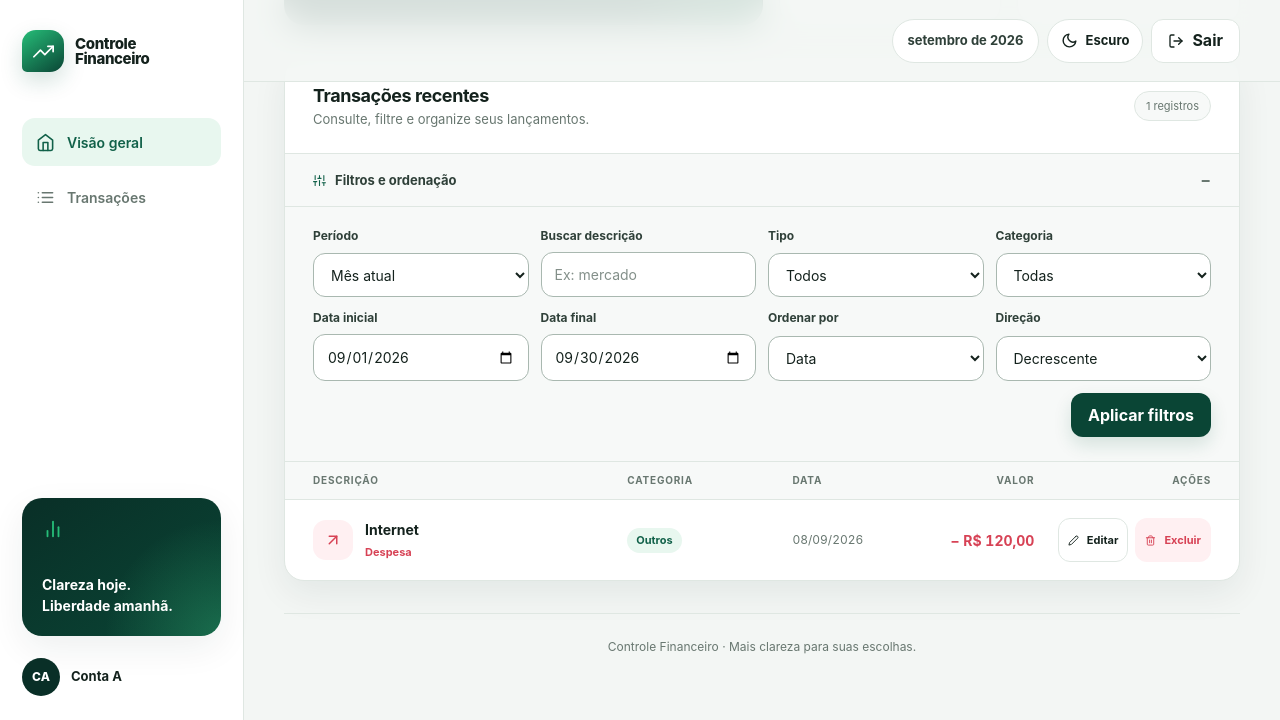
Test: edição foca a descrição e cancelar não altera registro
(page scrolled)
Expected: the button "Sair" is shown, top-left (1151, 18), bottom-right (1240, 62)
Click the button with aria-label "Editar Internet".
click(1093, 540)  # box top-left (1058, 518), bottom-right (1128, 562)
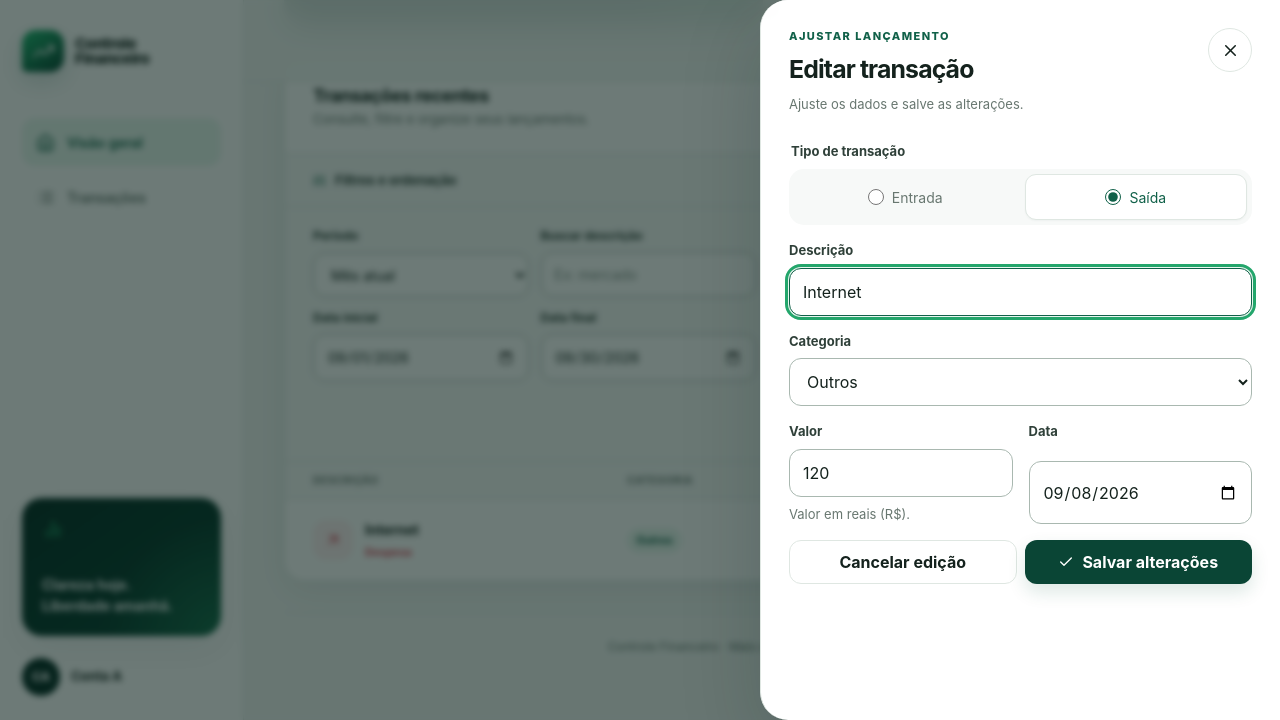
Replace the text in the field labelled "Descrição" with "Outra descrição" at x=1020, y=292, box top-left (789, 268), bottom-right (1252, 316)
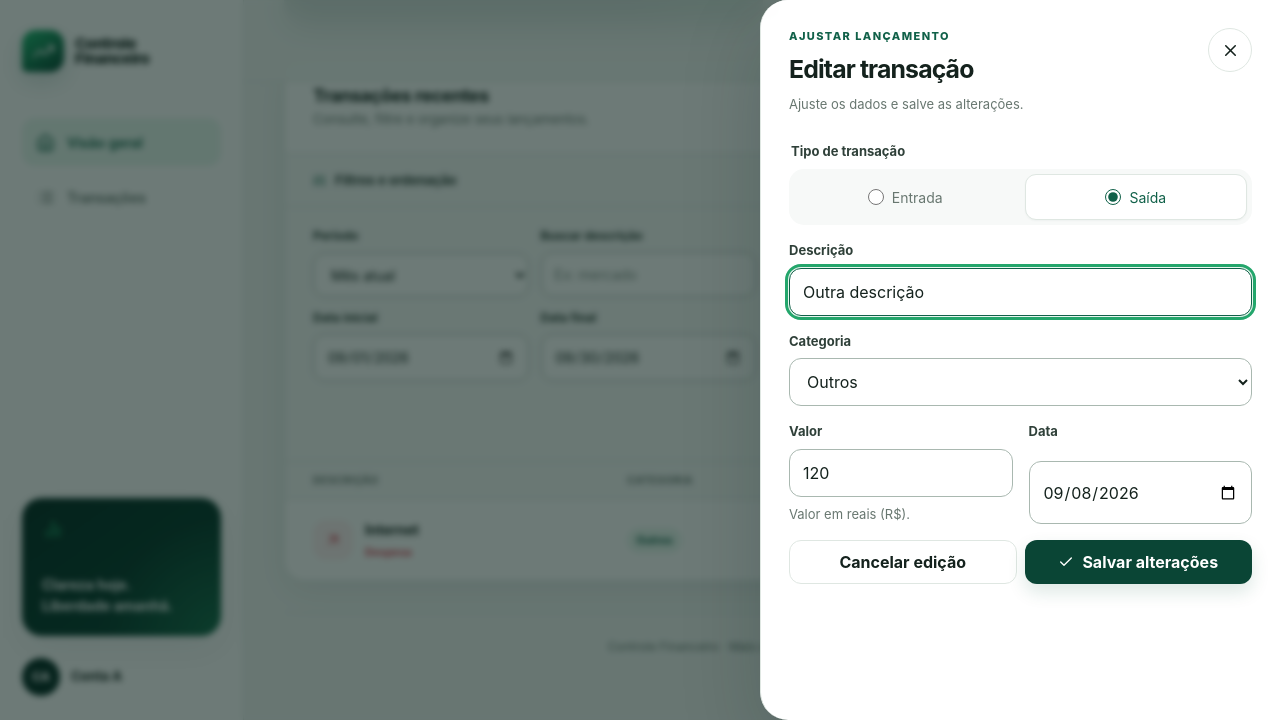
Click the button "Cancelar edição".
click(903, 562)  # box top-left (789, 540), bottom-right (1016, 584)
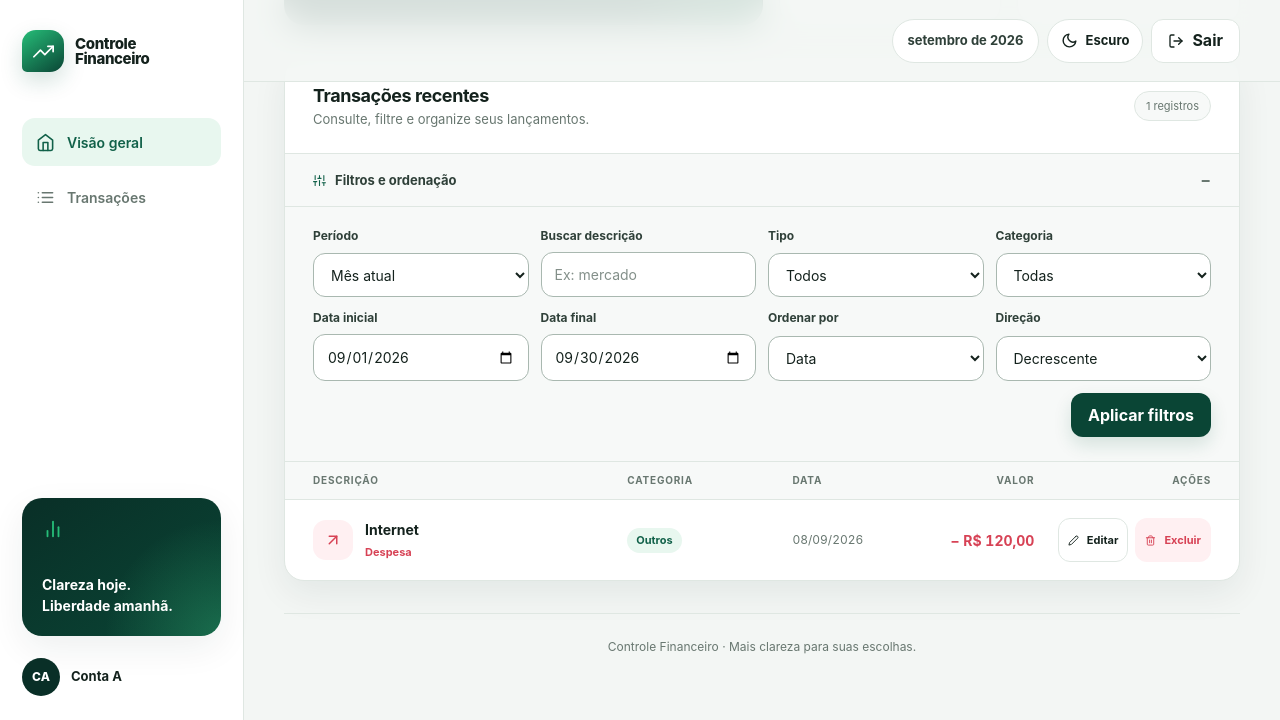
Expected: the heading "Internet" is shown, top-left (365, 521), bottom-right (419, 538)
Expected: the heading "Editar transação" is gone
